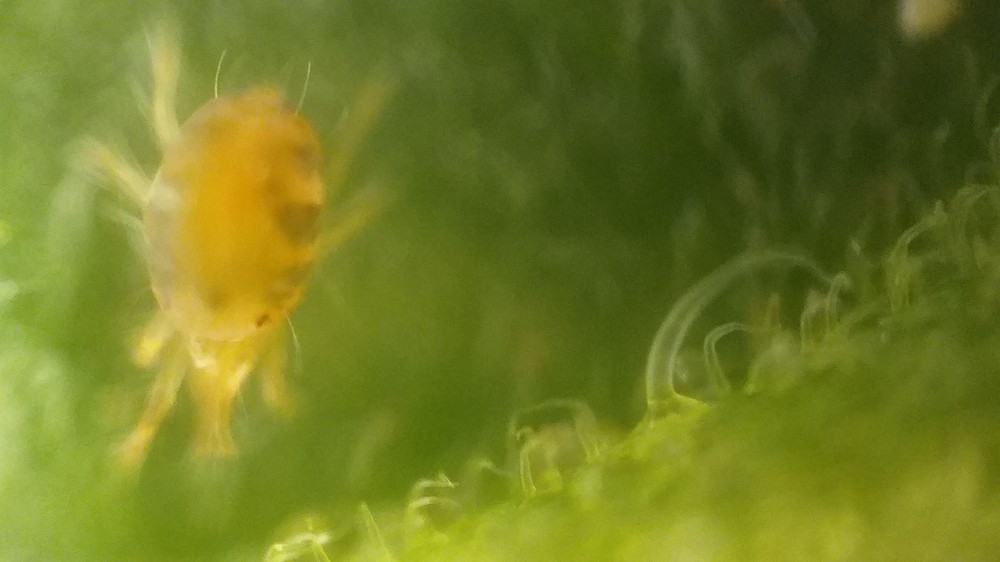Aracnido Rojo: (52, 18, 425, 472)
